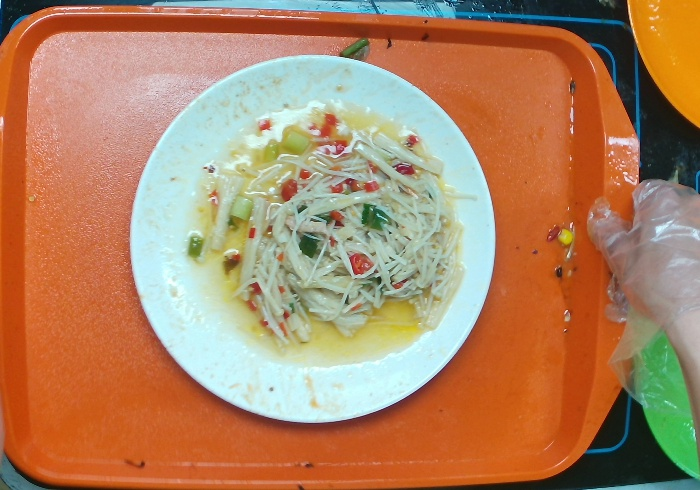HZYJPL-Bai_Se_Yuan_Pan: (125, 50, 502, 428)
